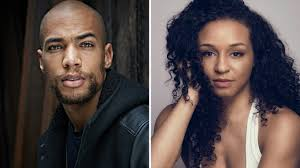person: (36, 1, 114, 106)
